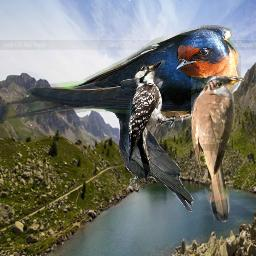Crow: (103, 100, 194, 212)
Cuckoo: (191, 76, 244, 222)
Swallow: (2, 25, 241, 121)
Woodpecker: (124, 58, 175, 186)
